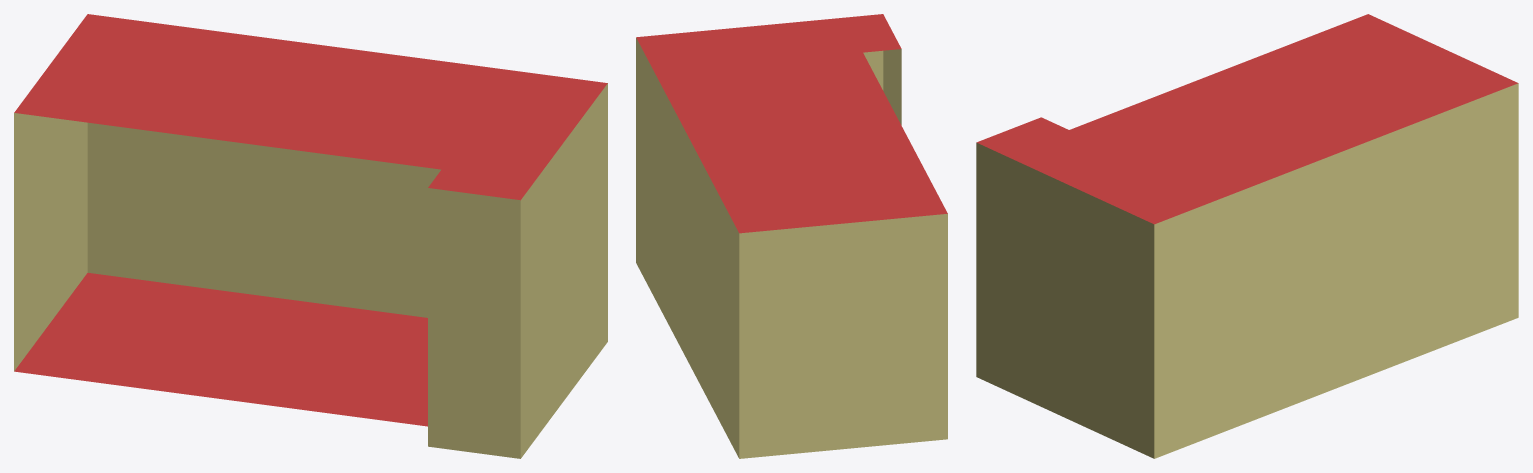
The picture shows the model from 3 angles, left to right: view 1: azimuth 30°, elevation 25°; view 2: azimuth 150°, elevation 25°; view 3: azimuth 270°, elevation 25°; orthographic projection. The views are drawn at different scales.
Size of the model in its own units: 11.09 by 12.08 by 5.76.
